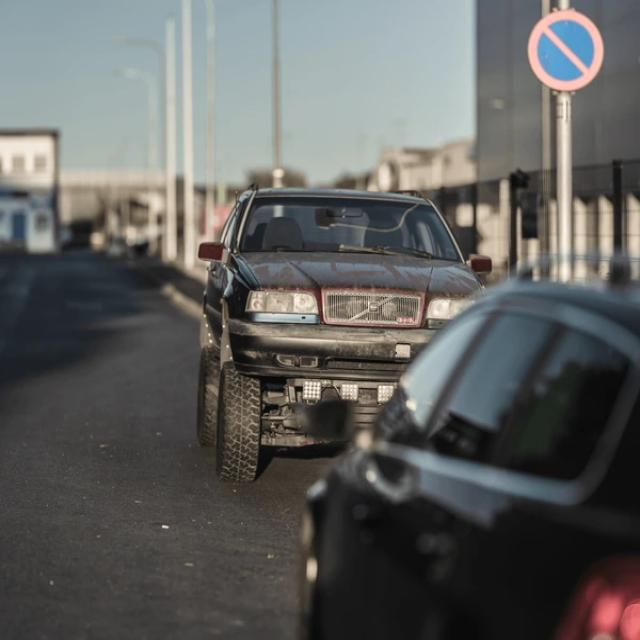volvo: (359, 301, 396, 312)
